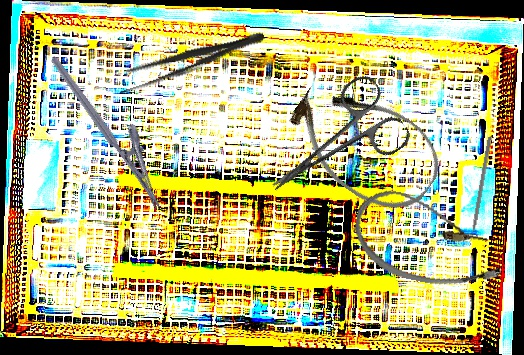Cannula: (274, 62, 455, 228), (346, 184, 513, 298)
Chopper: (462, 135, 493, 247)
Dressing Forceps: (115, 23, 268, 98)
Iris Scissors: (248, 70, 415, 220)
Needle Holder: (49, 41, 183, 211)
